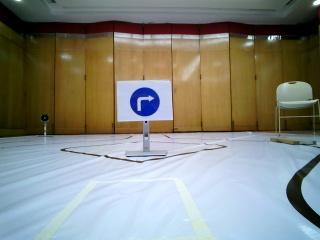right: (116, 86, 170, 120)
